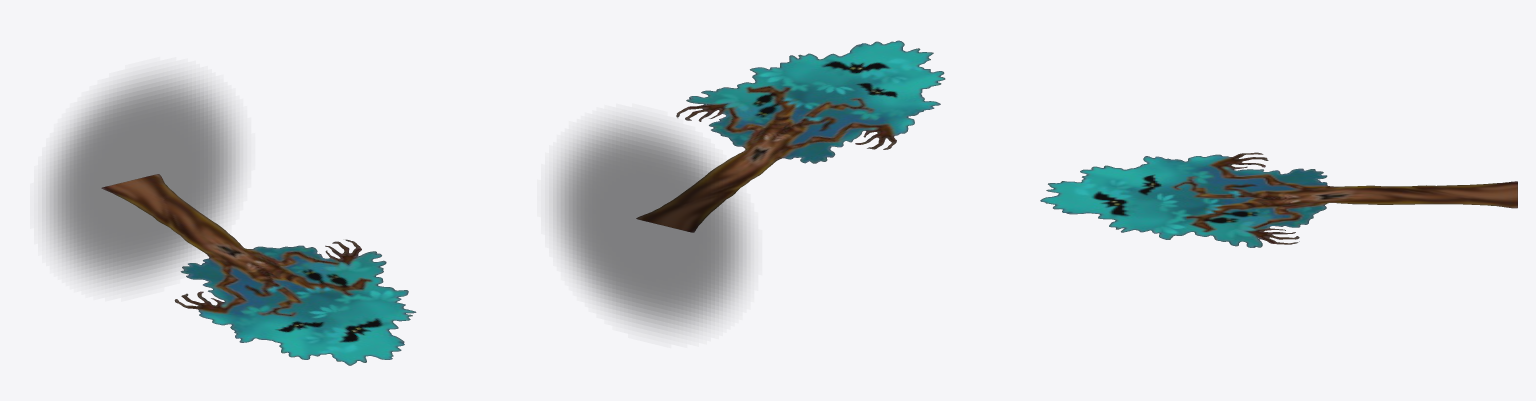
File: prop_tree_large_ur.glb
3 views of the same model, side by side, from view 1: azimuth 30°, elevation 25°; view 2: azimuth 150°, elevation 25°; view 3: azimuth 270°, elevation 25° (orthographic). The views are drawn at different scales.
Visible parts, largest first — view 1: shadow_large_no_box_ur, prop_leaves_large_ul_3__billboard; view 2: shadow_large_no_box_ur, prop_leaves_large_ul_3__billboard; view 3: prop_leaves_large_ul_3__billboard.
Part boxes in pixels (<box>): shadow_large_no_box_ur: <box>46,74,239,285</box>; prop_leaves_large_ul_3__billboard: <box>101,174,416,365</box>; shadow_large_no_box_ur: <box>553,120,746,331</box>; prop_leaves_large_ul_3__billboard: <box>636,40,945,232</box>; prop_leaves_large_ul_3__billboard: <box>1040,152,1517,247</box>.
Bounding box in the file's own units: 16.89 × 16.89 × 29.25.
2 materials, 2 textured.
